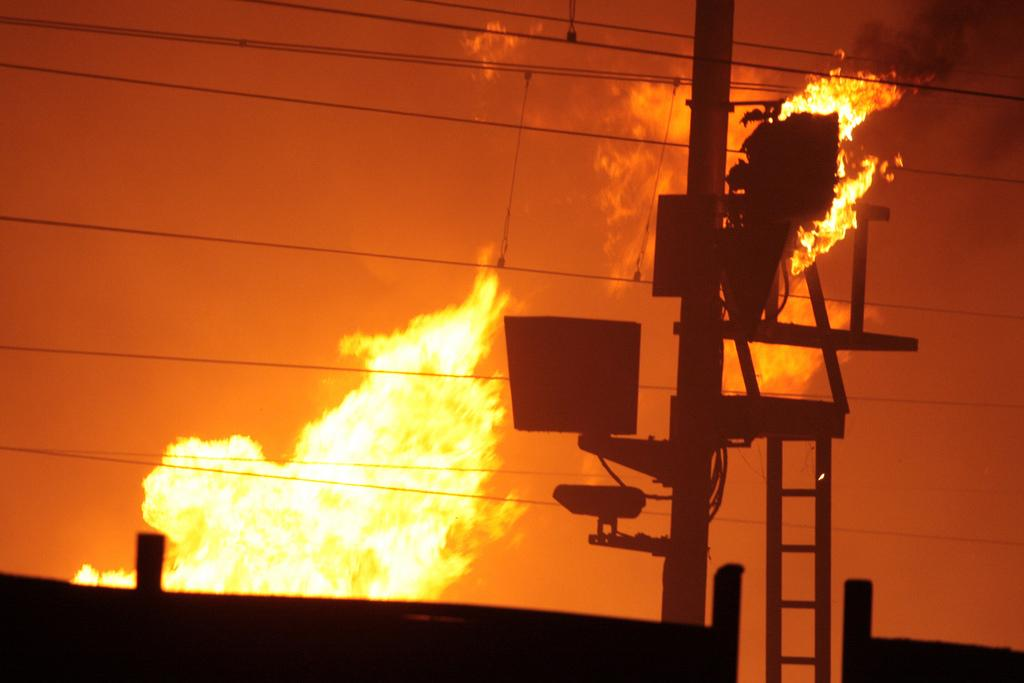fire: (345, 317, 495, 547), (155, 465, 327, 580), (778, 175, 878, 272), (812, 60, 897, 128)
